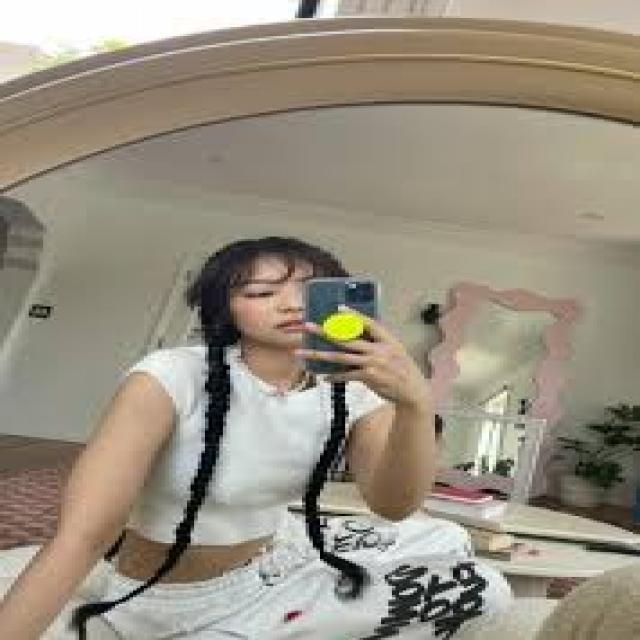Phone: (303, 276, 382, 369)
